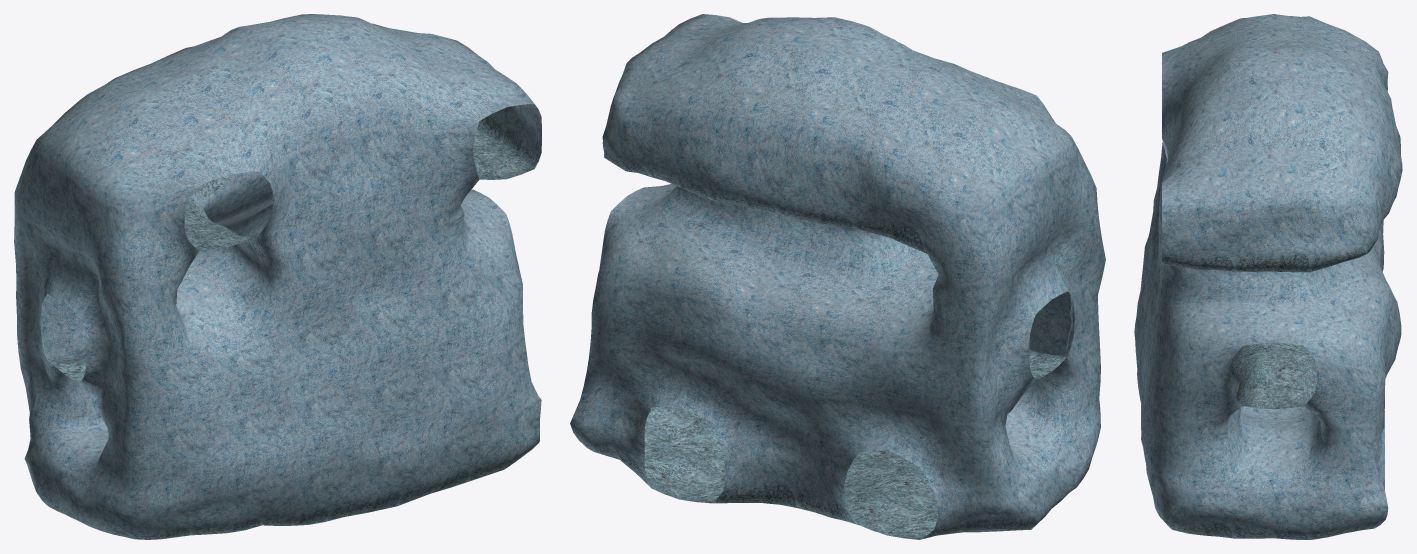
File: thm_all_cave_s03_ice_r9_r9.fbx
3 views of the same model, side by side, from view 1: azimuth 30°, elevation 25°; view 2: azimuth 150°, elevation 25°; view 3: azimuth 270°, elevation 25° (orthographic). The views are drawn at different scales.
Parts seen in each view (by area): view 1: mesh_node; view 2: mesh_node; view 3: mesh_node.
Boxes of the visible parts, bbox=[...] form: mesh_node: bbox=[14, 14, 541, 539]; mesh_node: bbox=[570, 14, 1105, 539]; mesh_node: bbox=[1134, 14, 1402, 539].
Size of the model in its own units: 50.64 by 50.06 by 28.87.
